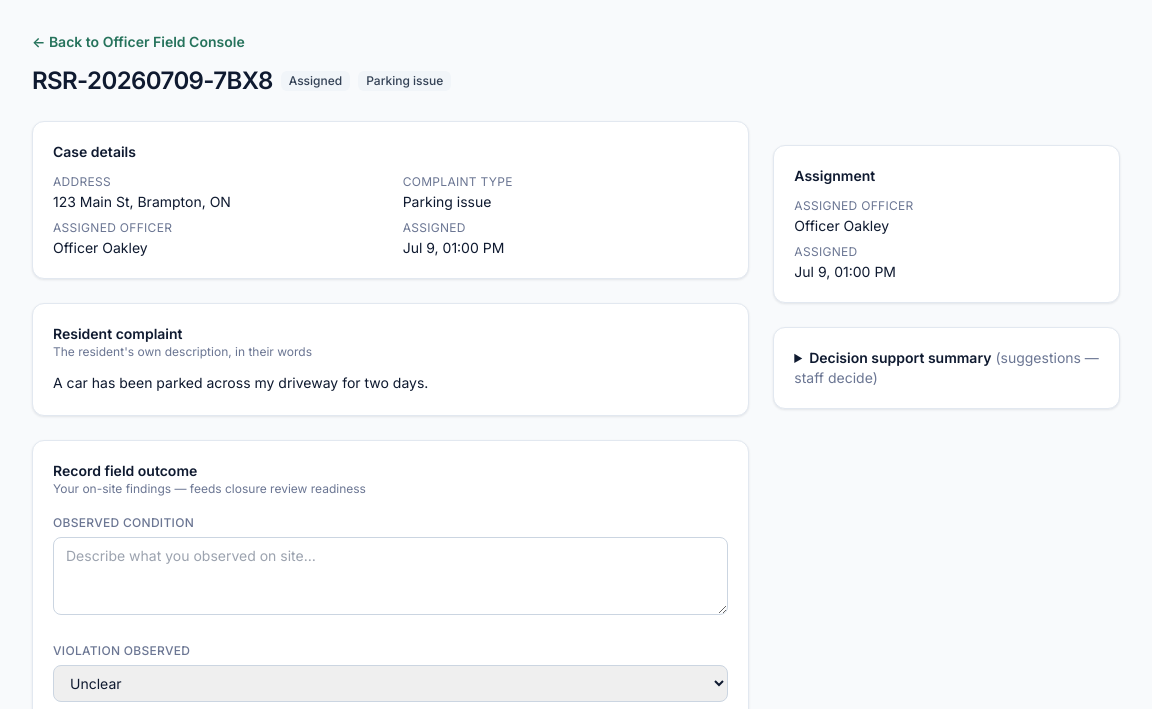
Test: AppOfficerCasePage field outcome submission › does not show success when the returned row lacks the structured action
The image size is (1152, 709).
Expected: the heading "Record field outcome" is shown, top-left (53, 462), bottom-right (197, 479)
Type "Vehicle parked across the driveway." into the text box with placeholder "Describe what you observed on site…" at x=391, y=576, box top-left (53, 537), bottom-right (728, 615)
(page scrolled)
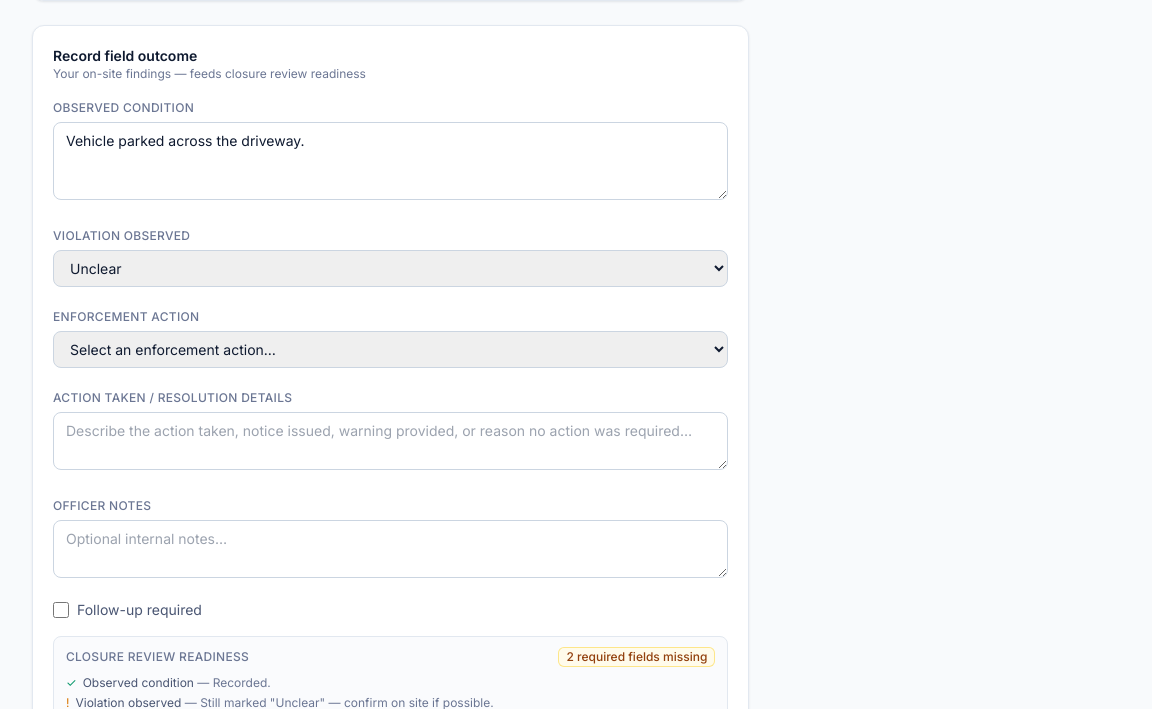
Select "Education / warning provided" in the dropdown labelled "Enforcement action" at x=391, y=349, box top-left (53, 331), bottom-right (728, 368)
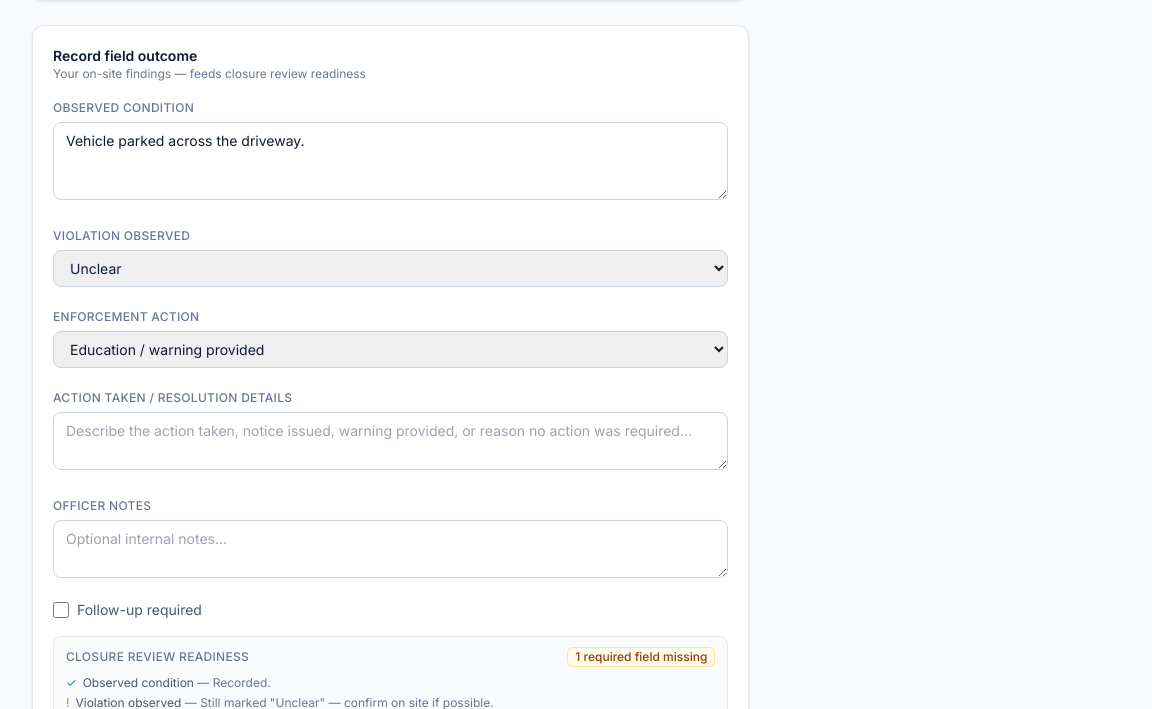
Replace the text in the text box with placeholder "Describe the action taken, notice issued, warning provided, or reason no action was required…" with "Issued a verbal warning." at x=391, y=441, box top-left (53, 412), bottom-right (728, 470)
(page scrolled)
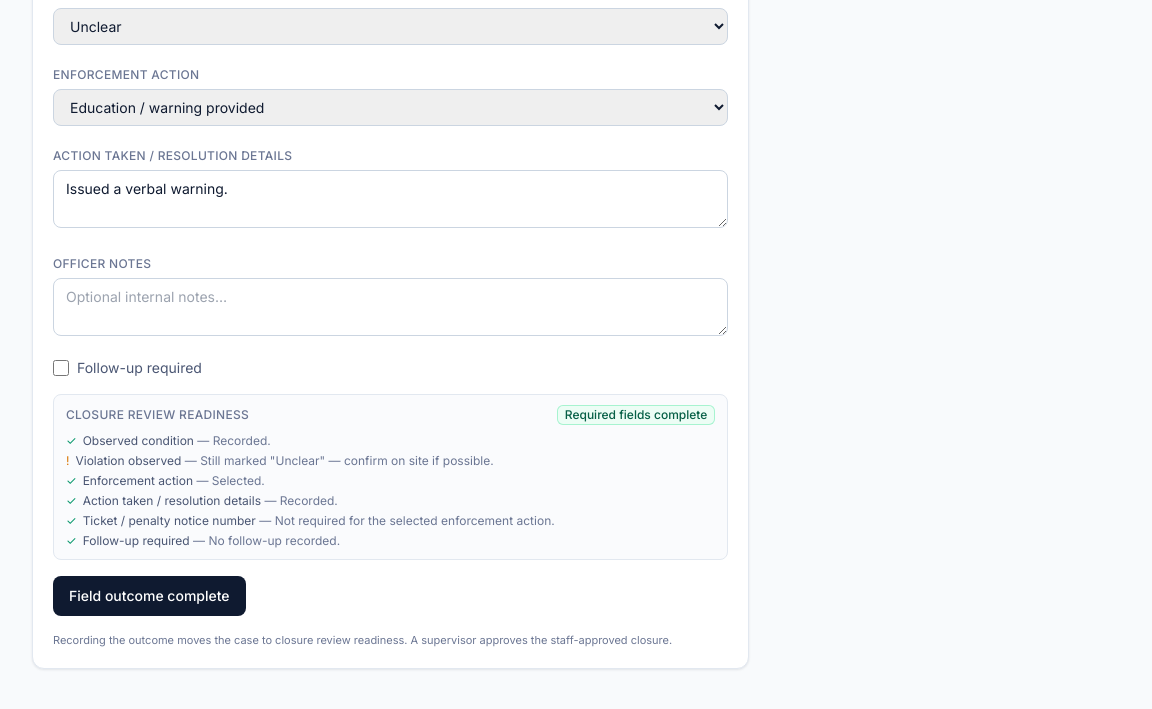
Click the button "Field outcome complete" at x=149, y=596, box top-left (53, 576), bottom-right (246, 616)
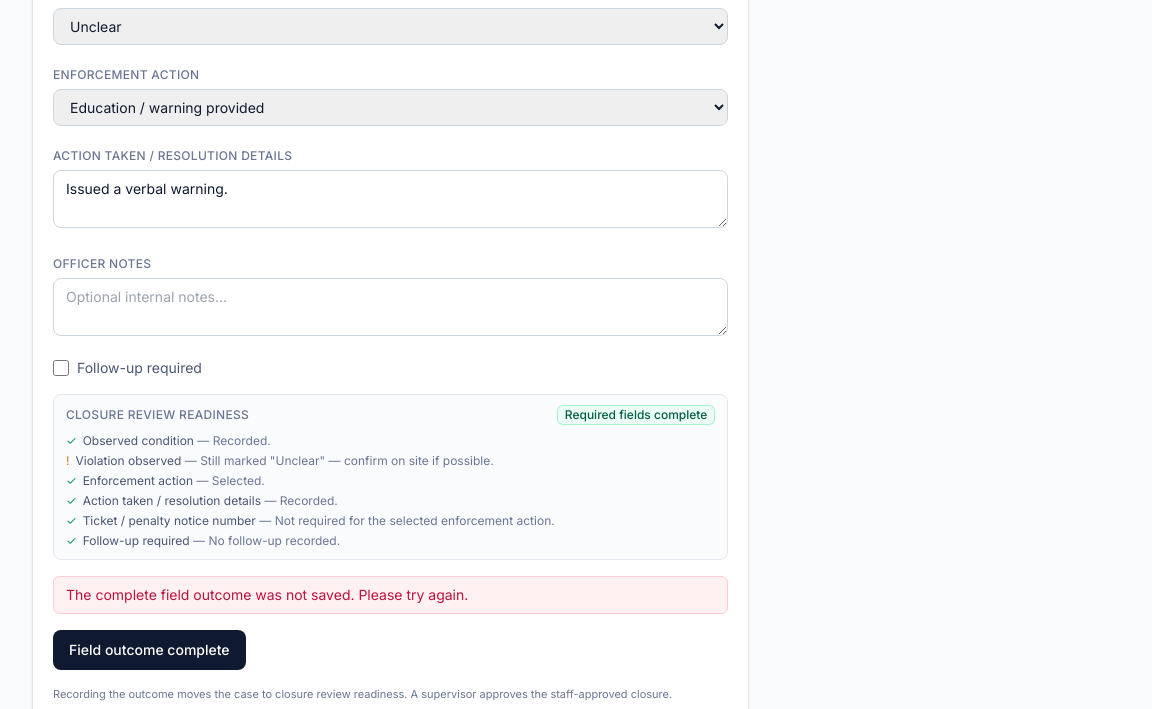
Expected: the text "The complete field outcome was not saved. Please try again." is shown, top-left (53, 576), bottom-right (728, 614)
